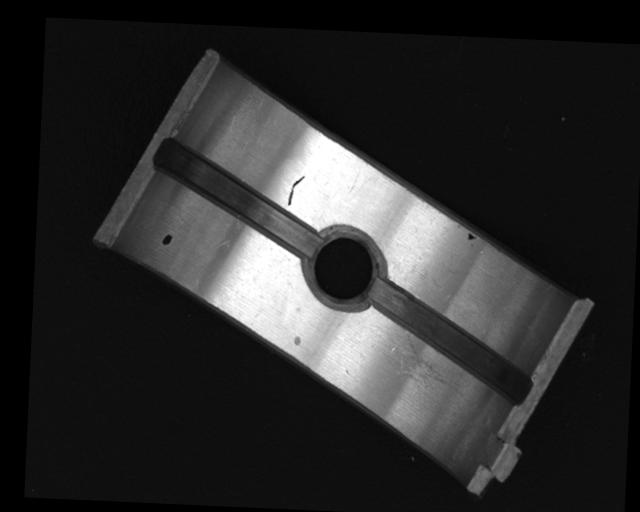blot: (160, 232, 173, 246), (465, 231, 476, 241)
bruise: (293, 332, 302, 346)
gap: (364, 277, 533, 404), (157, 141, 319, 259)
hole: (305, 225, 385, 308)
nick: (286, 174, 304, 207)
scratch: (389, 329, 468, 398)
